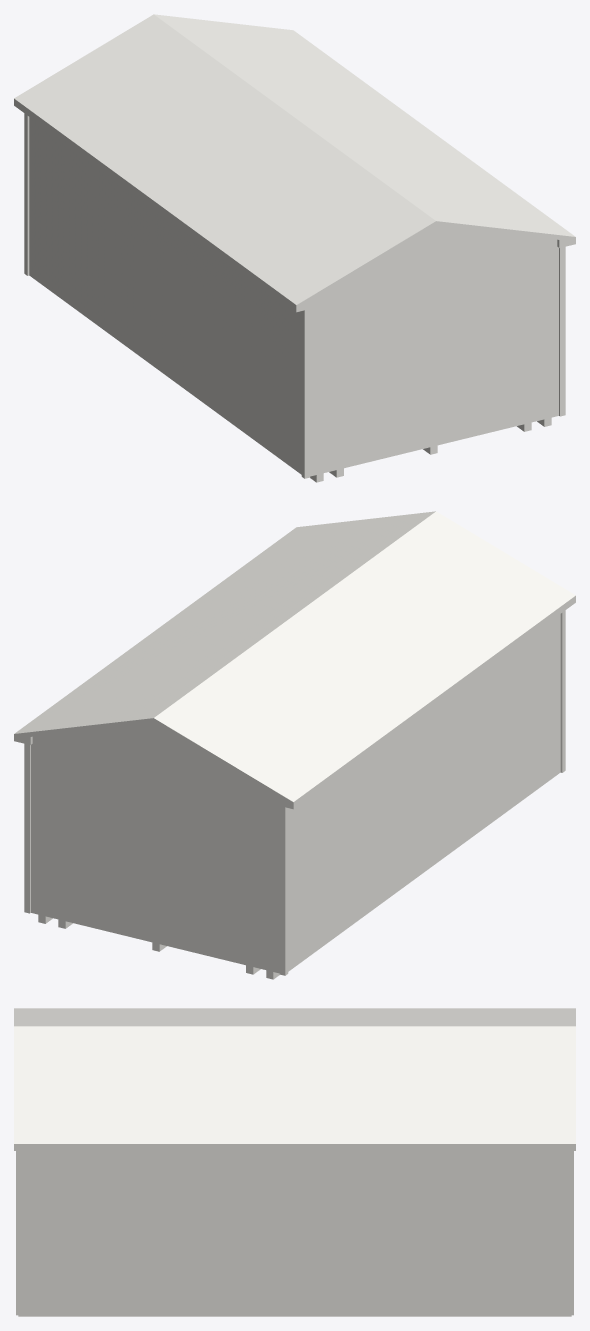
File: 8 wide A-frame_7ft_12x22.obj
The picture shows the model from 3 angles, top to bottom: view 1: azimuth 30°, elevation 25°; view 2: azimuth 150°, elevation 25°; view 3: azimuth 270°, elevation 25°; orthographic projection.
Visible parts, largest first — view 1: Shed, Roof, Sides, Trim; view 2: Shed, Roof, Sides, Trim; view 3: Shed, Roof, Sides, Trim, Floor.
Boxes of the visible parts, box(x1,y1,x2,y2) form: Shed: box(29, 117, 558, 476); Roof: box(14, 14, 575, 304); Sides: box(14, 98, 575, 312); Trim: box(24, 113, 565, 478); Shed: box(31, 614, 560, 973); Roof: box(14, 511, 575, 801); Sides: box(14, 595, 575, 809); Trim: box(24, 610, 565, 975); Shed: box(22, 1151, 567, 1314); Roof: box(14, 1008, 575, 1143); Sides: box(14, 1144, 575, 1150); Trim: box(16, 1151, 573, 1315); Floor: box(18, 1314, 571, 1316).
Size of the model in its own units: 3.89 by 3.12 by 6.81.
